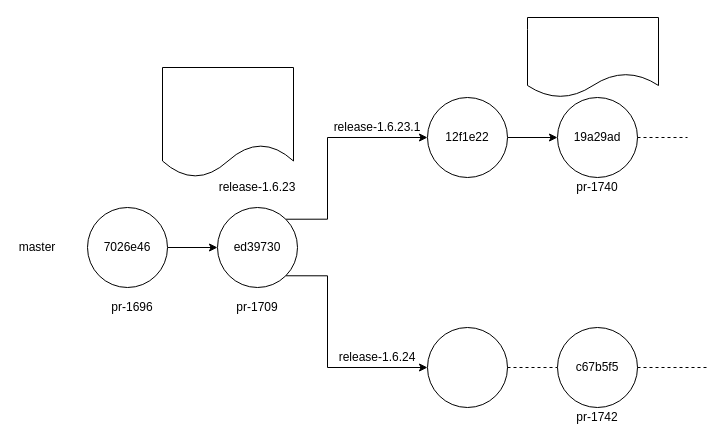
Image size: 726x445. Some labels were removed from this diagram. Here are the shapes that lost their labels. From the top down, the centre of each, then its label:
the point at 592,57: the changes in pr-1740 are same as pr-1742
the point at 228,122: package.json update was missed, so the release number on the page stays 1.6.22.3
the point at 467,367: 3665af6
